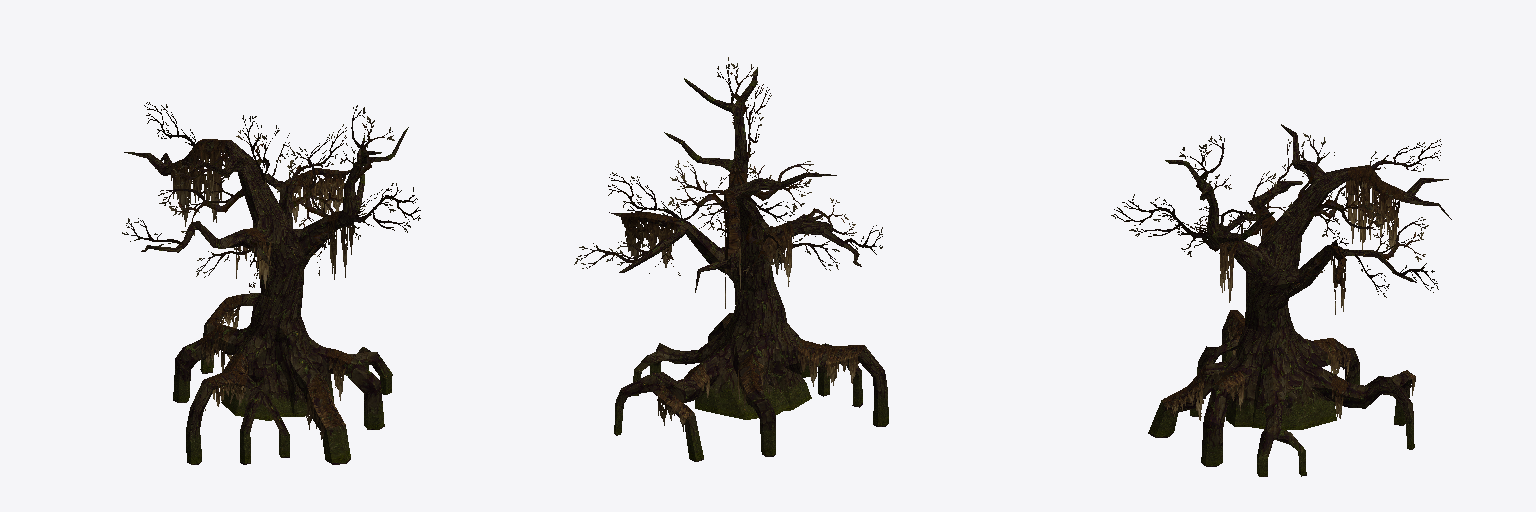
3 renders of one model, left to right at view 1: azimuth 30°, elevation 25°; view 2: azimuth 150°, elevation 25°; view 3: azimuth 270°, elevation 25°, orthographic.
Parts seen in each view (by area): view 1: world_expansion05_doodads_tanaanjungle_doodads_6tj_patchswamp_ro; view 2: world_expansion05_doodads_tanaanjungle_doodads_6tj_patchswamp_ro; view 3: world_expansion05_doodads_tanaanjungle_doodads_6tj_patchswamp_ro.
Boxes of the visible parts, <box> form: world_expansion05_doodads_tanaanjungle_doodads_6tj_patchswamp_ro: <box>122,102,420,464</box>; world_expansion05_doodads_tanaanjungle_doodads_6tj_patchswamp_ro: <box>574,57,888,461</box>; world_expansion05_doodads_tanaanjungle_doodads_6tj_patchswamp_ro: <box>1111,124,1451,476</box>.
Size of the model in its own units: 27.4 by 33.68 by 32.24.
3 materials, 3 textured.